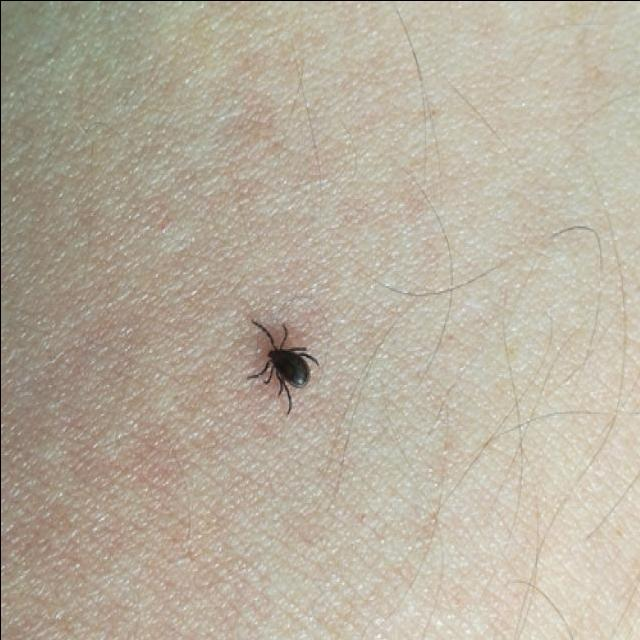Ixodes Ricinus-M: (244, 319, 317, 413)
